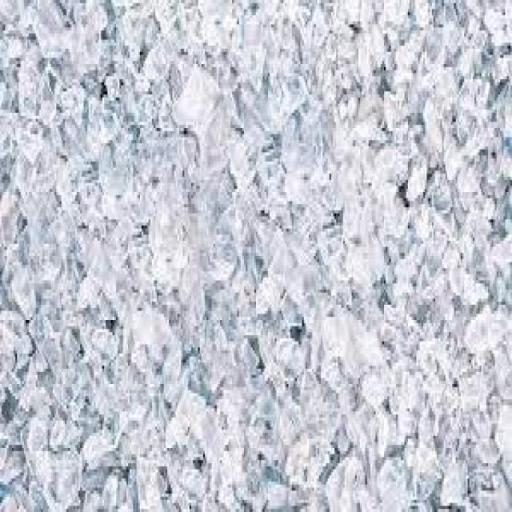glass: (3, 130, 86, 292), (252, 224, 318, 317), (314, 302, 383, 389), (145, 189, 199, 295), (206, 386, 258, 490), (169, 57, 224, 155), (70, 224, 128, 314), (451, 69, 503, 159), (274, 139, 327, 220), (125, 301, 178, 380), (27, 438, 83, 507), (28, 2, 85, 68), (337, 228, 388, 300), (438, 240, 489, 310), (116, 2, 168, 70), (412, 330, 462, 400), (348, 14, 393, 88), (281, 430, 331, 496), (262, 65, 308, 135), (167, 386, 214, 452), (460, 302, 508, 366), (232, 85, 275, 150), (191, 400, 229, 468), (322, 453, 365, 512), (192, 3, 238, 58), (404, 437, 442, 503), (16, 49, 50, 120), (374, 452, 413, 511), (368, 141, 410, 195), (4, 256, 38, 322), (14, 112, 52, 171), (130, 85, 168, 144), (84, 98, 124, 154), (34, 322, 70, 384), (450, 153, 486, 214), (139, 39, 178, 95), (421, 92, 453, 160), (134, 452, 170, 510), (342, 400, 378, 458), (236, 40, 271, 99), (412, 201, 447, 260), (272, 396, 308, 453), (98, 146, 134, 202), (0, 190, 28, 261), (0, 309, 31, 373), (455, 366, 491, 421), (79, 426, 121, 473), (222, 131, 256, 189), (93, 407, 132, 457), (378, 190, 412, 246), (269, 328, 305, 380), (391, 36, 425, 90), (474, 464, 512, 512), (466, 399, 500, 452), (391, 386, 422, 444), (340, 185, 370, 244), (485, 230, 512, 295), (20, 376, 55, 426), (53, 148, 84, 204), (57, 322, 86, 380), (438, 454, 468, 510), (351, 90, 387, 136), (253, 270, 286, 320), (121, 386, 154, 436), (381, 86, 412, 138), (470, 428, 504, 474), (204, 345, 234, 397), (240, 8, 273, 55), (87, 321, 120, 368), (441, 138, 472, 188), (492, 401, 512, 475), (207, 246, 240, 290), (235, 334, 264, 384), (176, 457, 208, 502), (404, 151, 431, 203), (48, 410, 78, 454), (261, 476, 298, 511), (80, 462, 118, 496), (493, 168, 512, 236), (57, 82, 85, 128), (456, 42, 484, 88), (24, 413, 50, 461), (0, 440, 27, 486), (205, 317, 232, 362), (427, 174, 454, 218), (151, 0, 182, 38), (100, 469, 128, 511), (307, 4, 332, 50), (480, 4, 510, 42), (416, 408, 440, 455), (260, 460, 292, 491), (76, 152, 102, 190), (0, 102, 28, 137), (101, 70, 127, 106), (492, 70, 512, 116), (3, 30, 27, 68), (164, 412, 186, 450), (27, 478, 51, 512), (1, 386, 21, 426), (130, 339, 151, 375), (494, 53, 511, 85)
